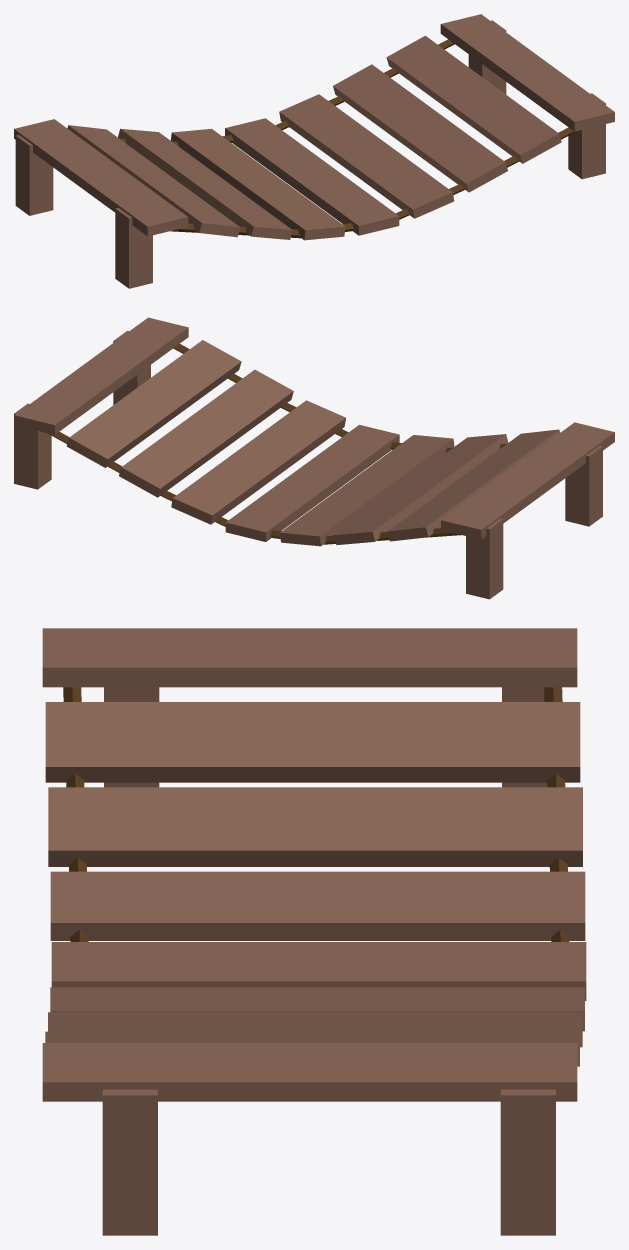
Rendered from Bridge.fbx.
The picture shows the model from 3 angles, top to bottom: view 1: azimuth 30°, elevation 25°; view 2: azimuth 150°, elevation 25°; view 3: azimuth 270°, elevation 25°; orthographic projection. The views are drawn at different scales.
Visible parts, largest first — view 1: Cube.003; view 2: Cube.003; view 3: Cube.003.
Boxes of the visible parts, left/top/right/bottom form: Cube.003: left=14, top=14, right=614, bottom=288; Cube.003: left=14, top=317, right=614, bottom=599; Cube.003: left=42, top=628, right=586, bottom=1235.
Bounding box in the file's own units: 2.51 × 1.24 × 0.3719.
